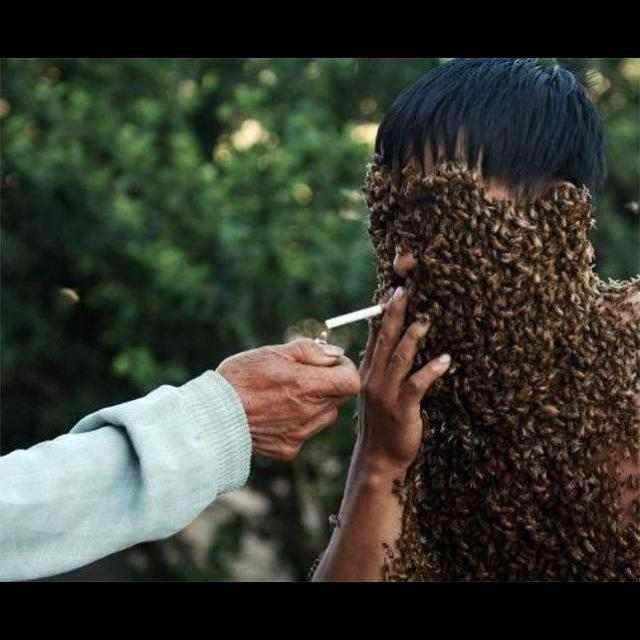rokok: (318, 303, 394, 335)
